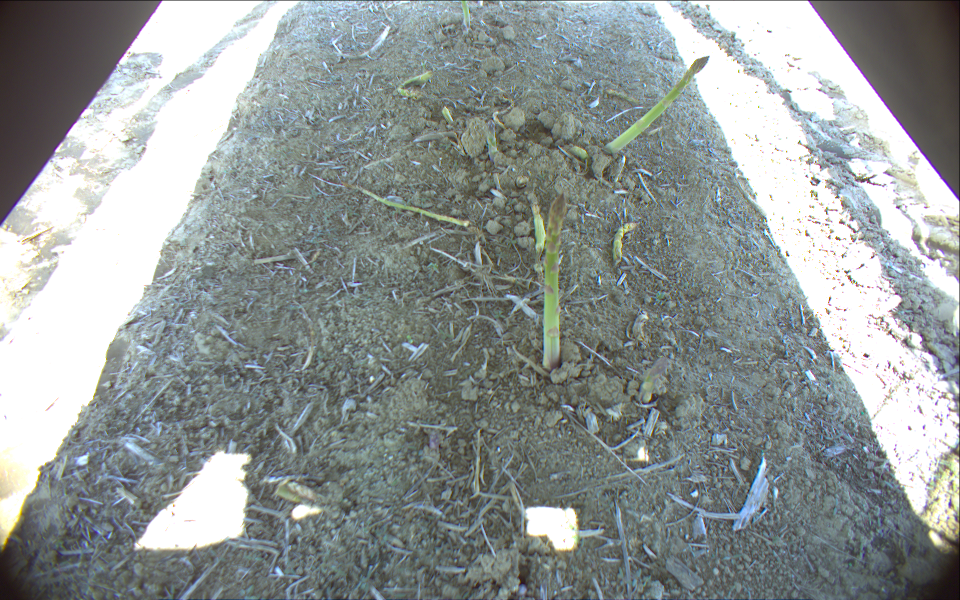aspa: (605, 56, 712, 154), (352, 187, 470, 229), (542, 193, 567, 372), (526, 191, 546, 255), (394, 71, 433, 100), (612, 221, 638, 264), (485, 119, 498, 161), (605, 90, 639, 105), (439, 103, 454, 122), (461, 1, 471, 29)
